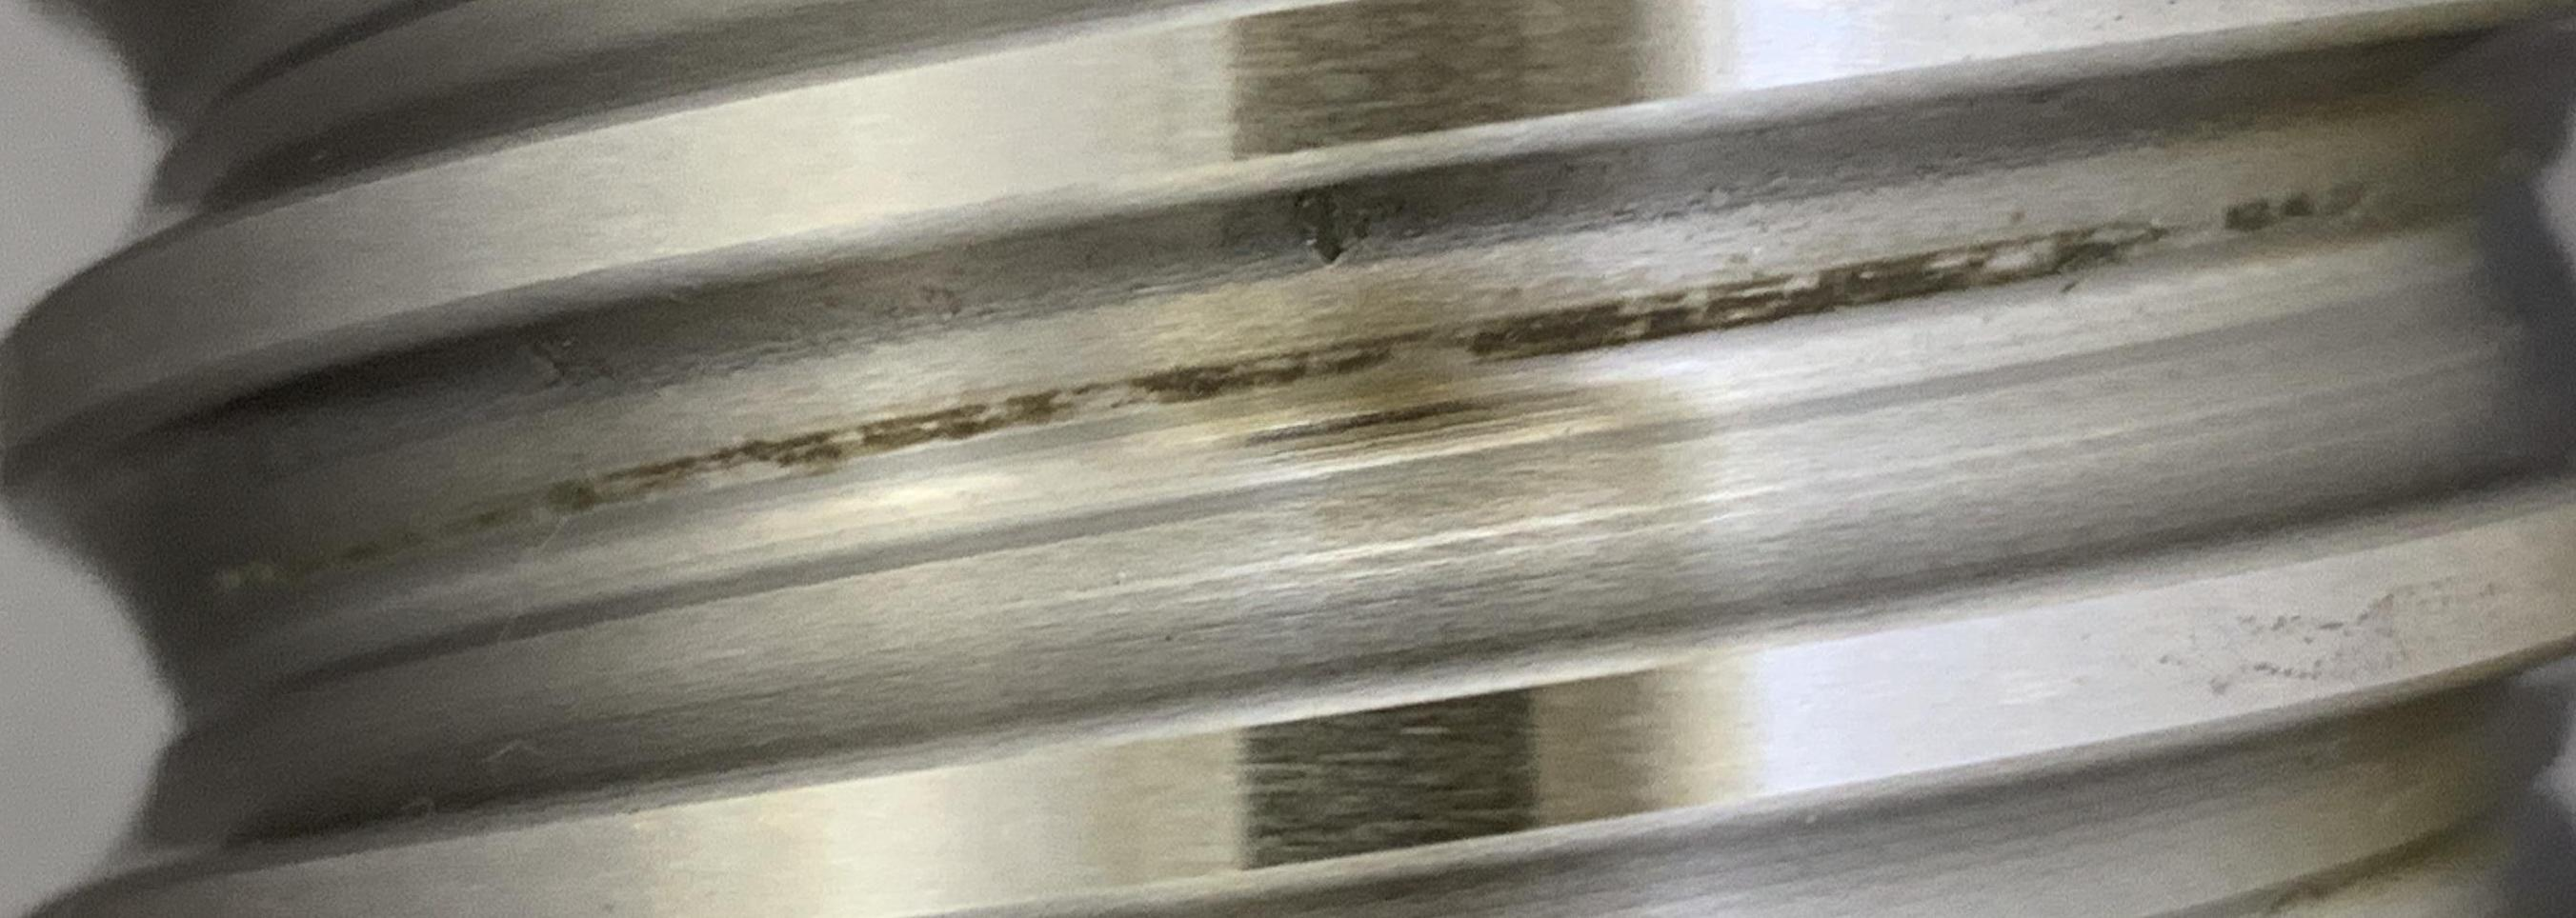pitting: (1296, 184, 1372, 264)
